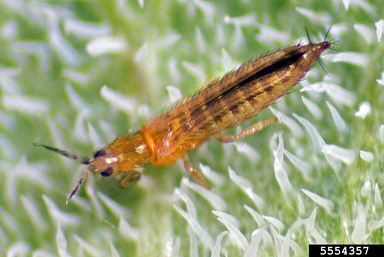Thrips: (74, 22, 338, 215)
